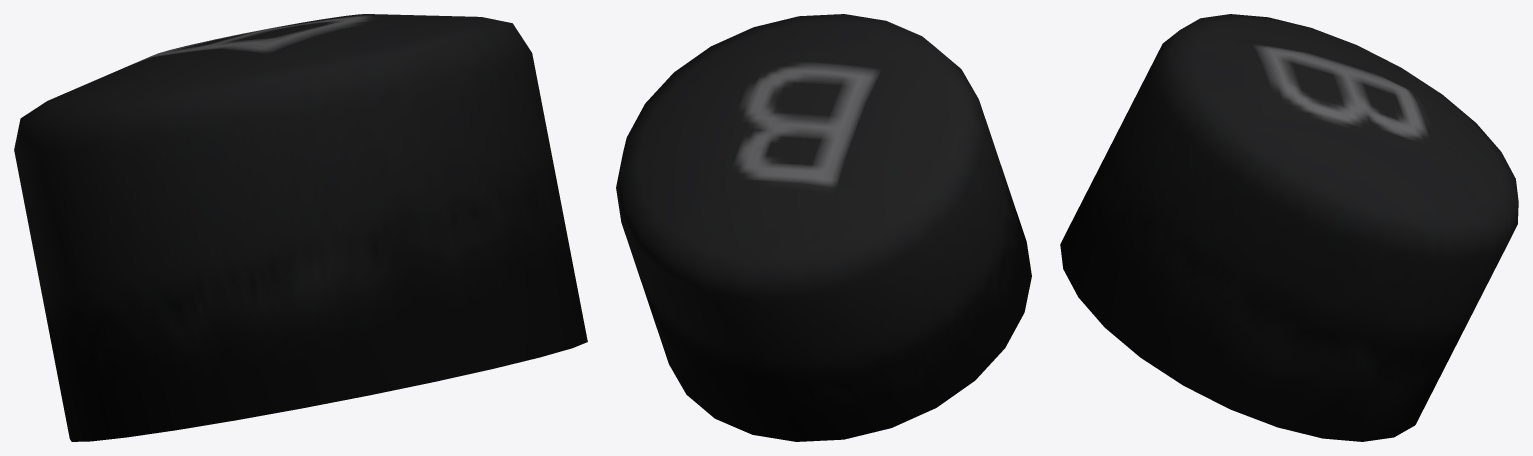
Rendered from button_b.obj.
3 views of the same model, side by side, from view 1: azimuth 30°, elevation 25°; view 2: azimuth 150°, elevation 25°; view 3: azimuth 270°, elevation 25° (orthographic). The views are drawn at different scales.
Parts seen in each view (by area): view 1: r_button_b; view 2: r_button_b; view 3: r_button_b.
Part boxes in pixels (x1,y1,x2,y2): r_button_b: (14, 14, 587, 441); r_button_b: (616, 14, 1031, 441); r_button_b: (1060, 14, 1518, 441).
Size of the model in its own units: 0.009 by 0.00858 by 0.0102.
1 material, 1 textured.
